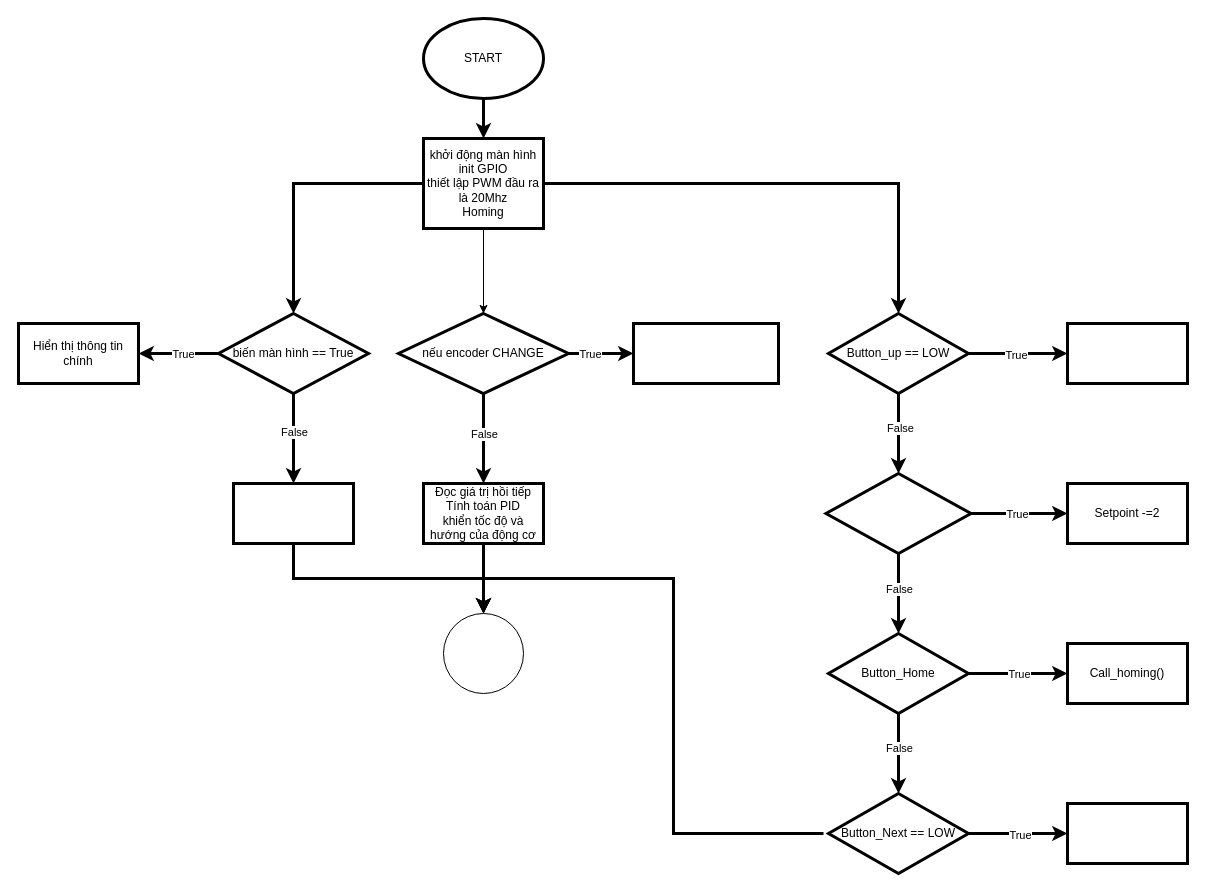
Some shapes in this 1206 by 892 pixel diagram are drawn without their labels. Here are the shapes that lost their labels. From the top down, the centre of each, then its label:
At (x=706, y=353): "Chương trình ngắt encoder".
At (x=1127, y=353): "Setpoint +=2".
At (x=293, y=513): "Hiển thị thông tin giới thiệu".
At (x=898, y=513): "Button_down == LOW".
At (x=483, y=653): "END".
At (x=1127, y=833): "screen = !screen".
